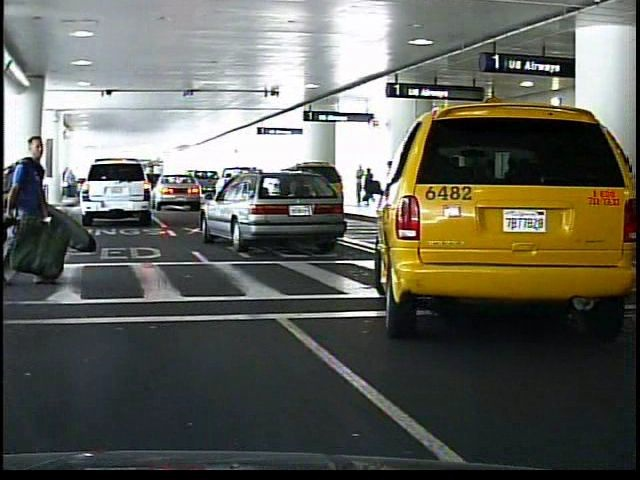person: (12, 129, 63, 293), (353, 165, 364, 204), (363, 165, 374, 203)
